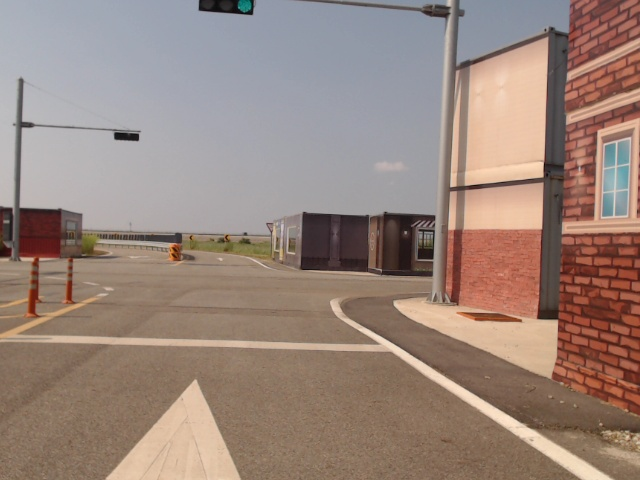green_3: (199, 1, 254, 15)
